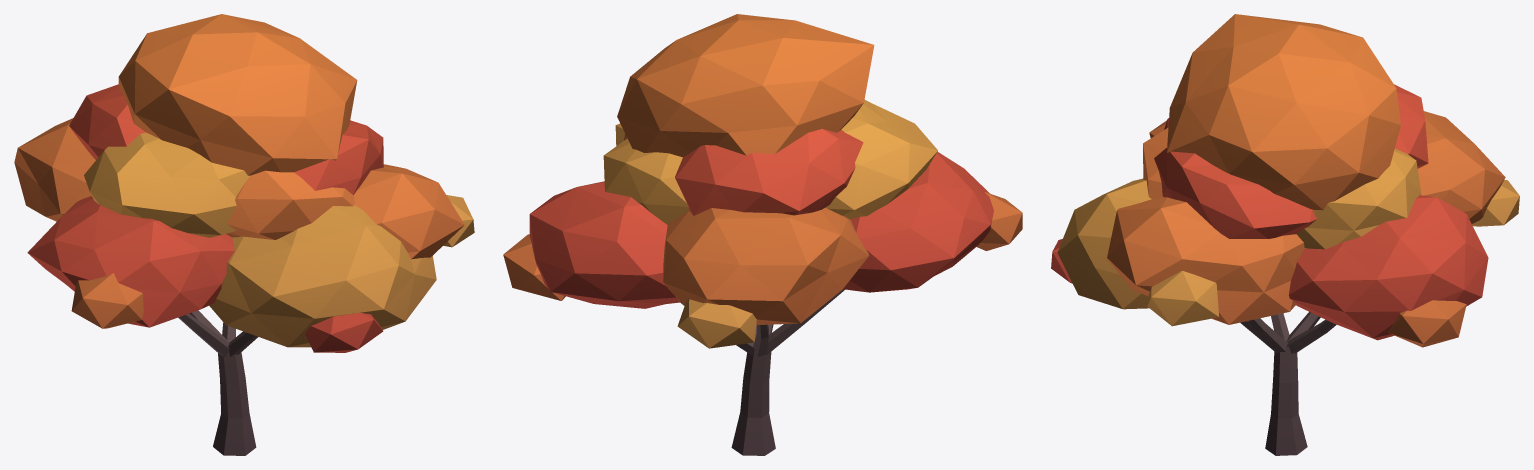
File: maple_orange.glb
3 renders of one model, left to right at view 1: azimuth 30°, elevation 25°; view 2: azimuth 150°, elevation 25°; view 3: azimuth 270°, elevation 25°, orthographic. The views are drawn at different scales.
Visible parts, largest first — view 1: maple_orange; view 2: maple_orange; view 3: maple_orange.
Part boxes in pixels (x1,y1,x2,y2): maple_orange: (14,14,474,455); maple_orange: (503,14,1022,455); maple_orange: (1051,14,1519,455).
Bounding box in the file's own units: 5.5 × 5.62 × 5.86.
